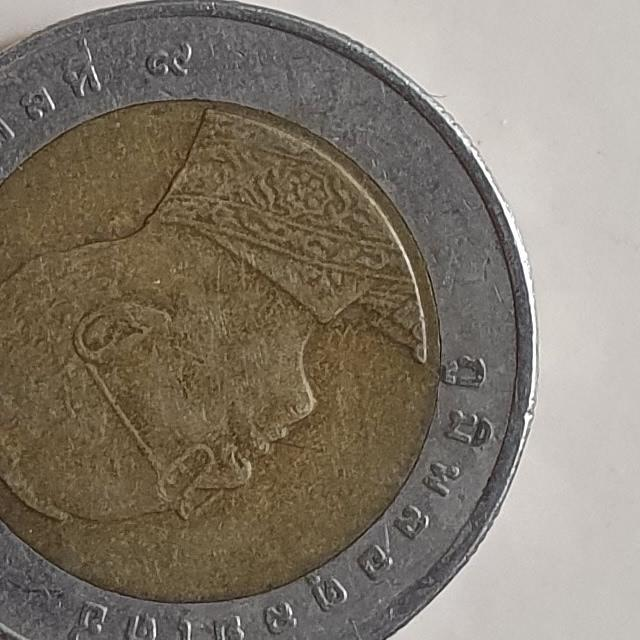10 Bath: (1, 1, 547, 640)
